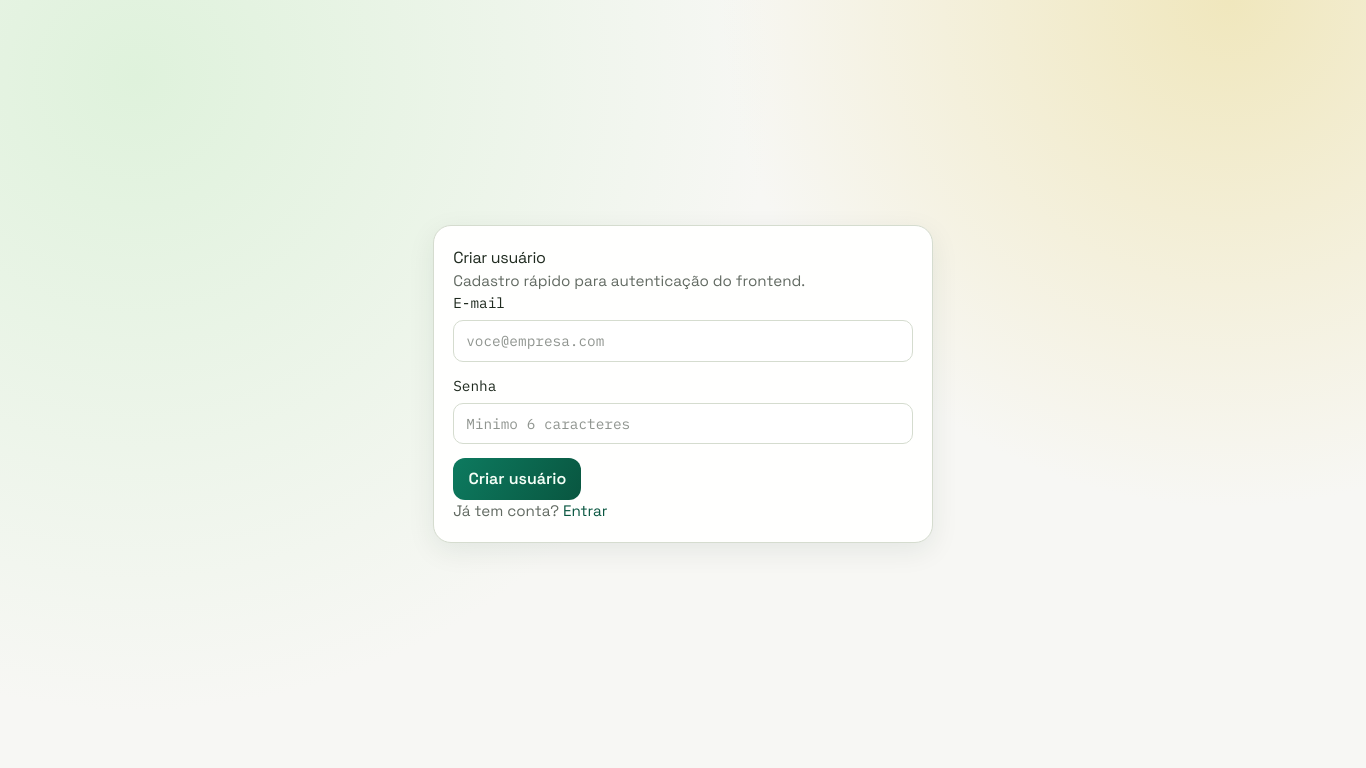
Scenario: RegisterPage › redirects to /login after successful registration
Type "user@example.com" into the field with placeholder "voce@empresa.com" at (683, 341), box [453, 320, 913, 362]
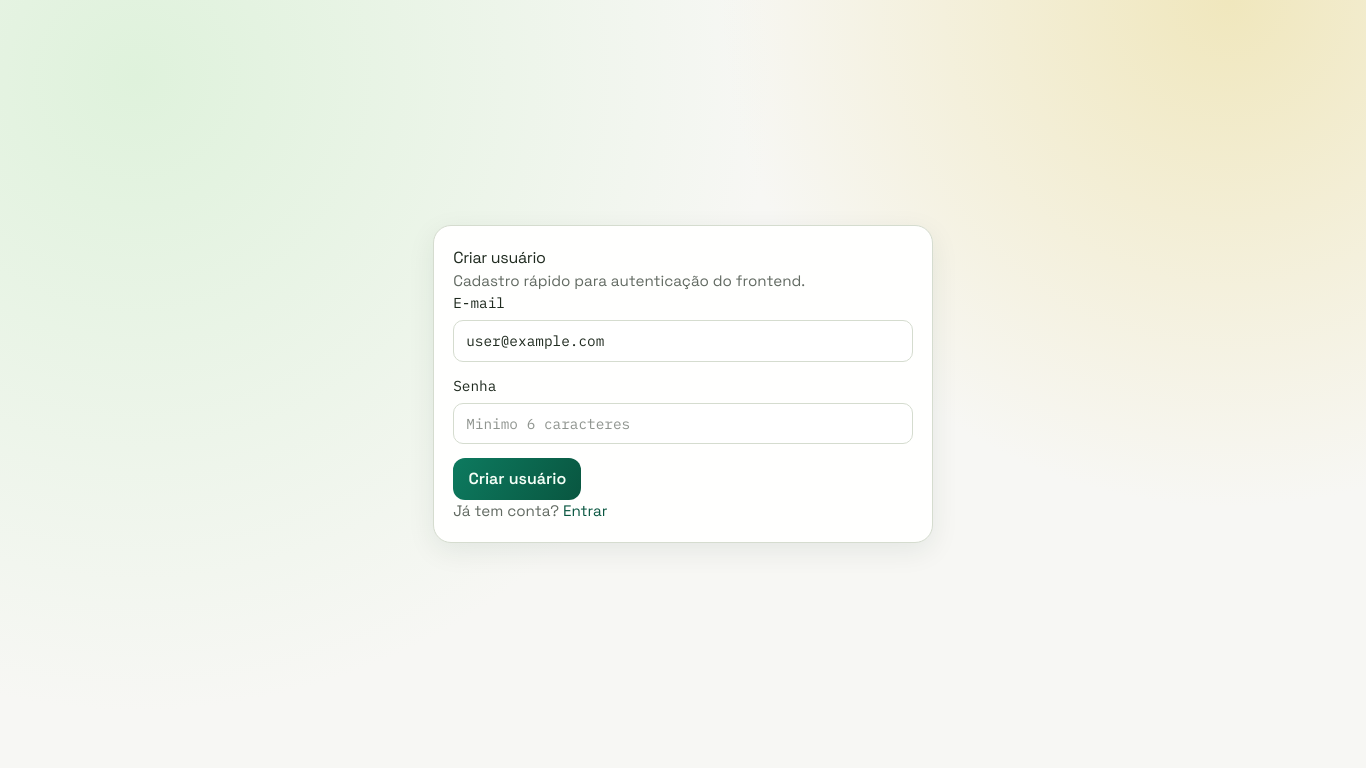
Type "password123" into the password field with placeholder "Minimo 6 caracteres" at (683, 424), box [453, 403, 913, 444]
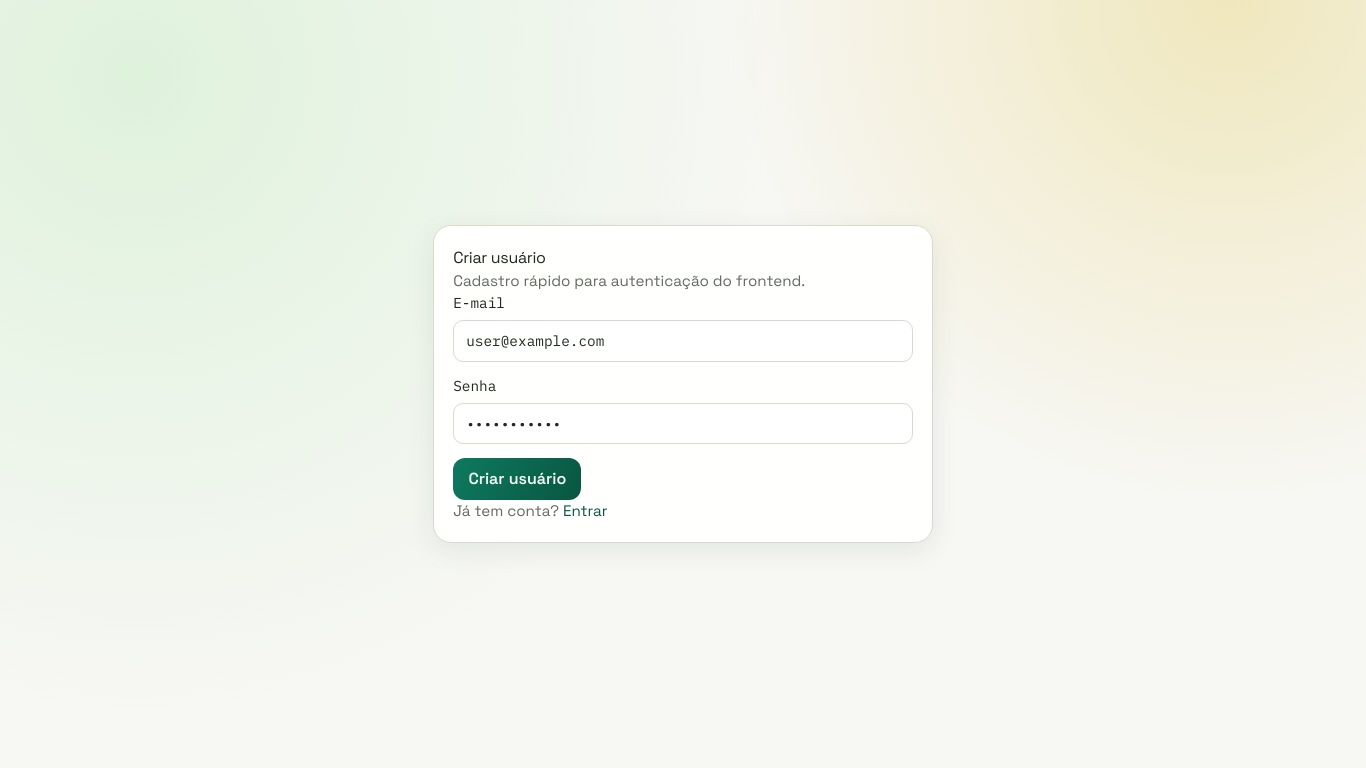
Click the button "Criar usuário" at (517, 479), box [453, 458, 581, 500]
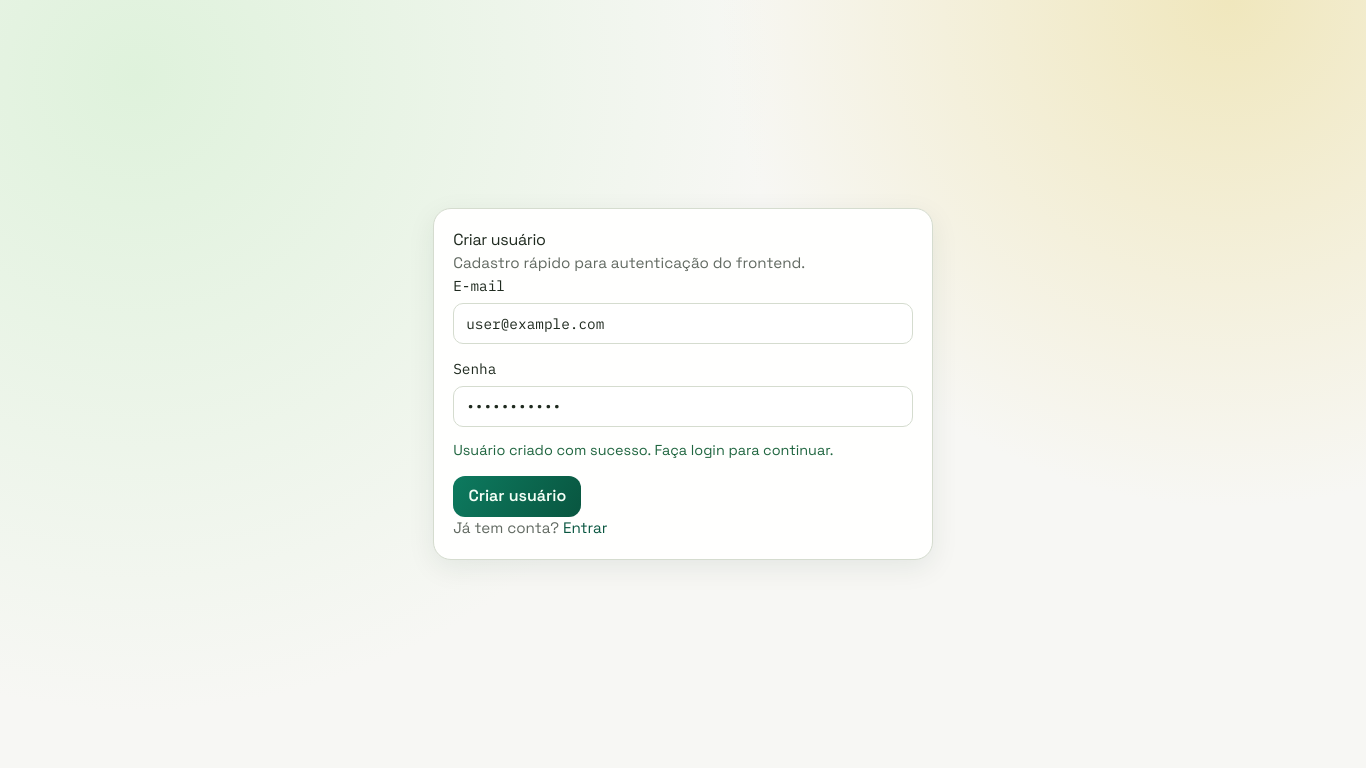
Check: the text "Usuário criado com sucesso. Faça login para continuar." is shown, box [453, 441, 833, 459]
